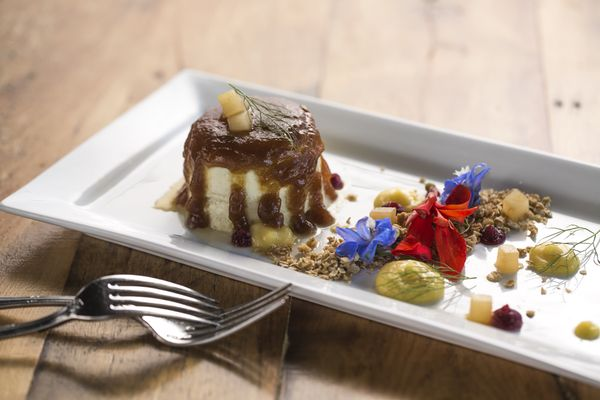burger: (1, 274, 291, 343)
